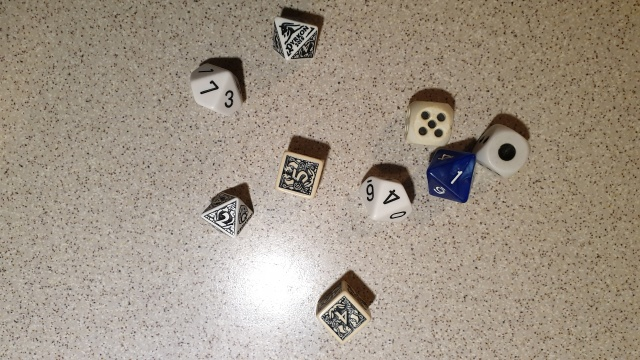d10-1: (424, 151, 479, 205)
d10-4: (356, 168, 417, 229)
d10-7: (184, 59, 248, 117)
d6-1: (472, 122, 530, 180)
d6-5: (401, 96, 455, 148)
d6p-4: (314, 277, 371, 344)
d6p-5: (272, 150, 323, 199)
d8p-1: (263, 9, 325, 66)
d8p-2: (197, 188, 257, 240)
